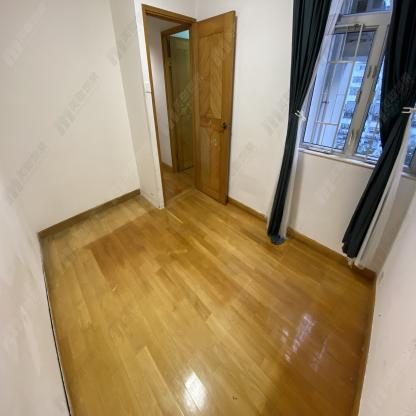Door: (191, 11, 235, 205)
